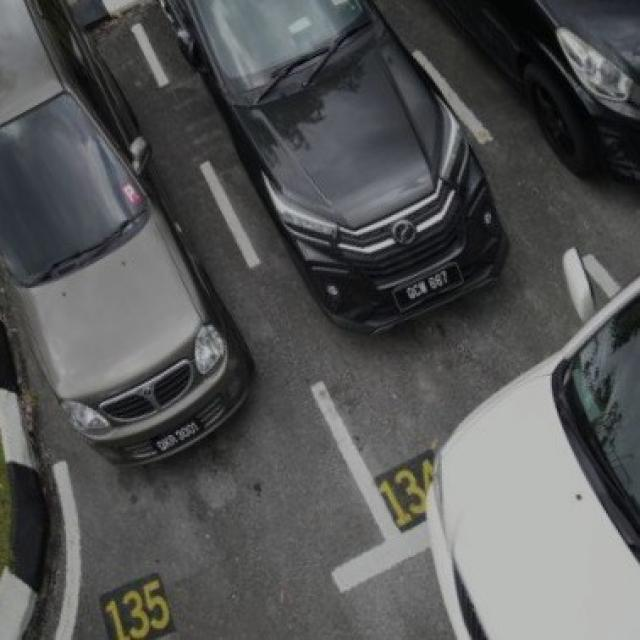Legalparking: (0, 0, 251, 461), (159, 0, 505, 332)
illegalparking: (428, 247, 638, 638)
